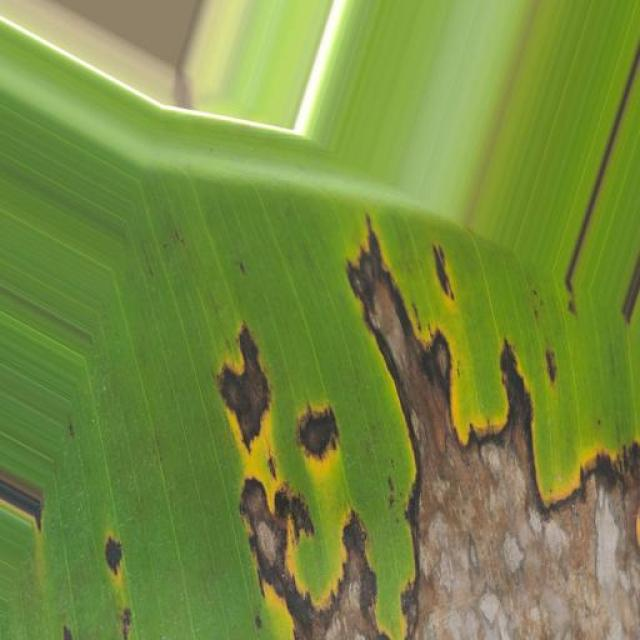Early_rust: (54, 128, 640, 640)
